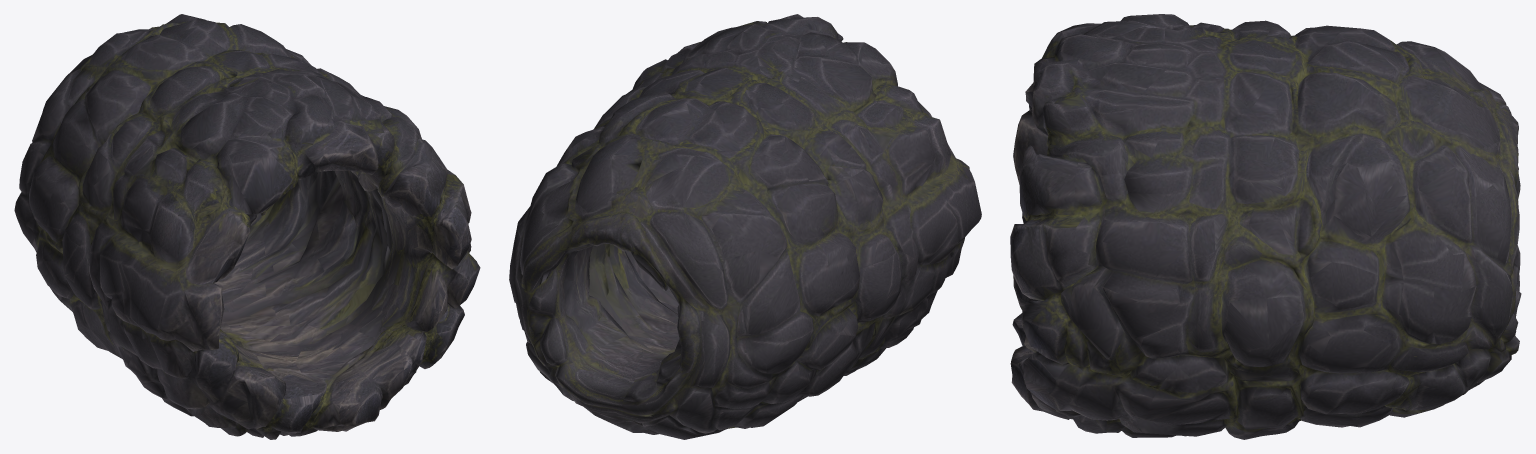
Rendered from tunnel.glb.
3 renders of one model, left to right at view 1: azimuth 30°, elevation 25°; view 2: azimuth 150°, elevation 25°; view 3: azimuth 270°, elevation 25°, orthographic. The views are drawn at different scales.
Parts seen in each view (by area): view 1: tunnel; view 2: tunnel; view 3: tunnel.
Part boxes in pixels (<box>): tunnel: <box>14,14,480,439</box>; tunnel: <box>509,14,981,439</box>; tunnel: <box>1010,14,1521,439</box>.
Size of the model in its own units: 0.8824 by 0.8371 by 1.
Materials: 1 (1 with a texture image).
